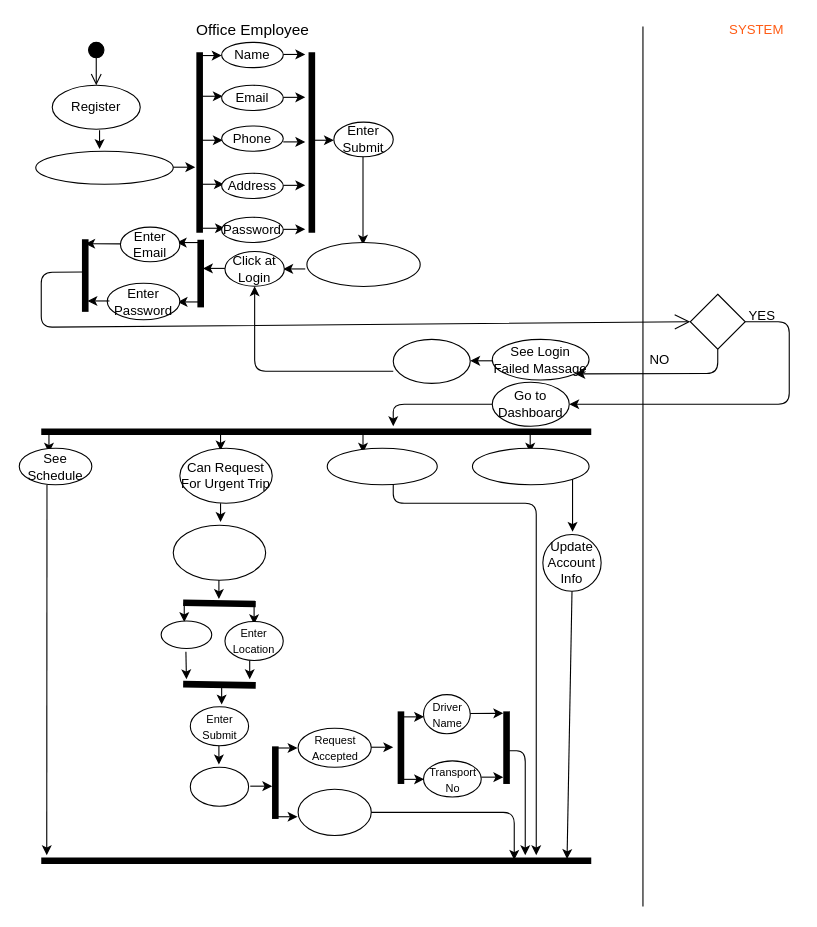
The diagram is 817 pixels wide and 927 high, and some of its shapes have lost their labels. The shapes that lost their labels are listed below. From the top down, each one's box as (x1, y1, x2, y2) in pixels, then its label:
(35, 150, 173, 184): Enter Registration Info
(306, 241, 420, 287): Get Massage Registration Done
(689, 293, 745, 349): Is Valid
(392, 338, 470, 383): Input Info Again
(326, 447, 437, 485): Give Review About Service
(471, 447, 589, 485): View Account Info
(172, 524, 266, 580): Click at Need Urgent Trip
(160, 620, 212, 648): Enter Time
(189, 766, 249, 806): Get Massage
(297, 788, 371, 835): Request Not Accepted
